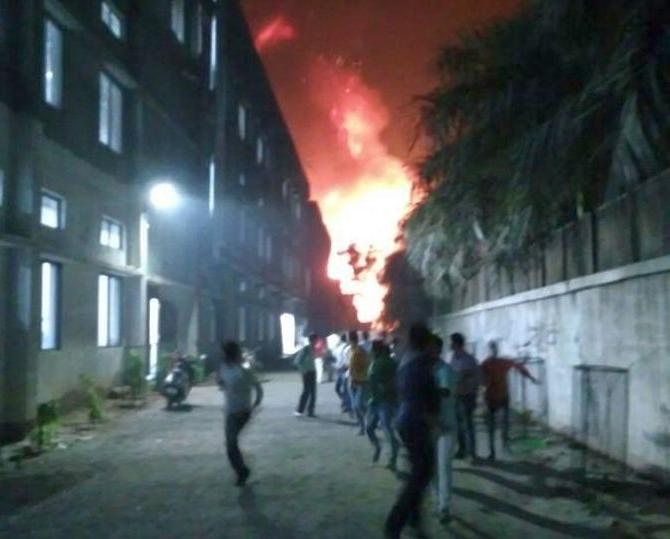fire: (298, 54, 417, 322)
